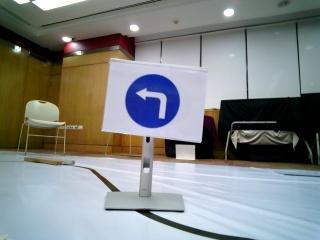left: (116, 67, 190, 137)
